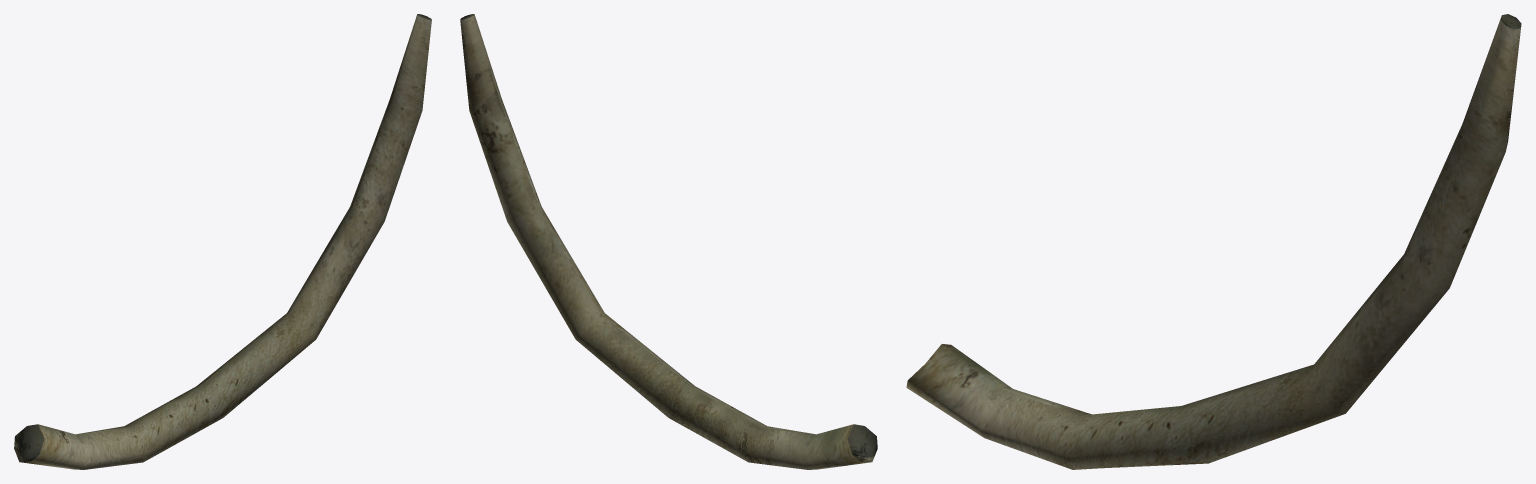
File: bone_whale_piece_rib01.fbx
3 renders of one model, left to right at view 1: azimuth 30°, elevation 25°; view 2: azimuth 150°, elevation 25°; view 3: azimuth 330°, elevation 25°, orthographic. The views are drawn at different scales.
Visible parts, largest first — view 1: bone_whale_piece_rib01; view 2: bone_whale_piece_rib01; view 3: bone_whale_piece_rib01.
Part boxes in pixels (x1=…): bone_whale_piece_rib01: x1=14, y1=14, x2=431, y2=469; bone_whale_piece_rib01: x1=460, y1=14, x2=877, y2=469; bone_whale_piece_rib01: x1=906, y1=14, x2=1521, y2=469.
Bounding box in the file's own units: 11.29 × 9.89 × 1.18.
